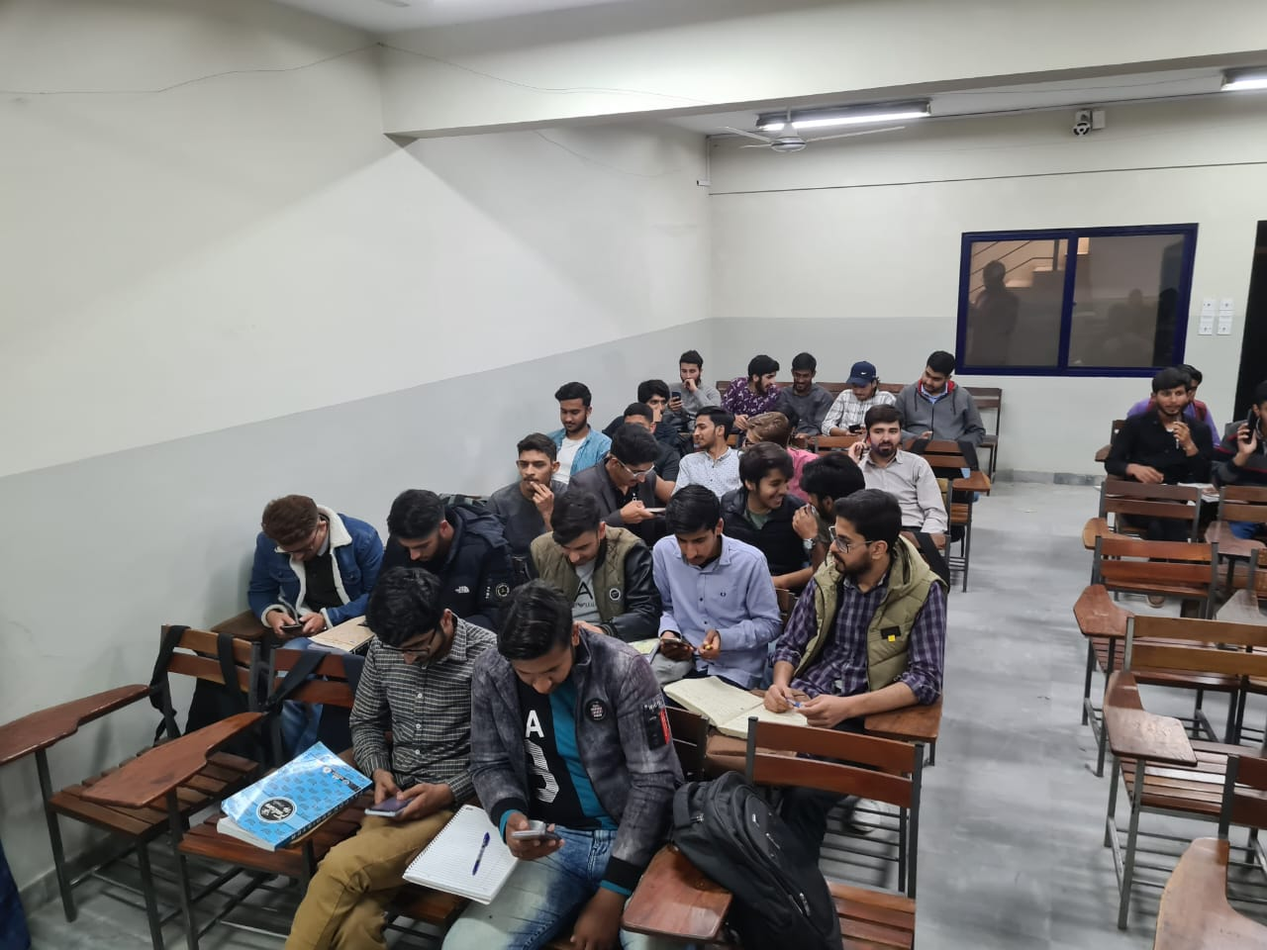non-cheating: (497, 580, 582, 695), (366, 567, 456, 665), (386, 488, 455, 564), (666, 483, 724, 566), (260, 494, 328, 563), (551, 487, 607, 567), (1151, 368, 1193, 418), (554, 381, 593, 434), (867, 403, 904, 458), (922, 349, 957, 393), (846, 361, 879, 400), (790, 352, 818, 393), (680, 349, 703, 386)
phone: (362, 769, 449, 823), (505, 810, 564, 862), (270, 605, 324, 639), (658, 630, 698, 664), (1236, 404, 1261, 455), (849, 435, 871, 462), (843, 423, 864, 437), (671, 391, 684, 412)
